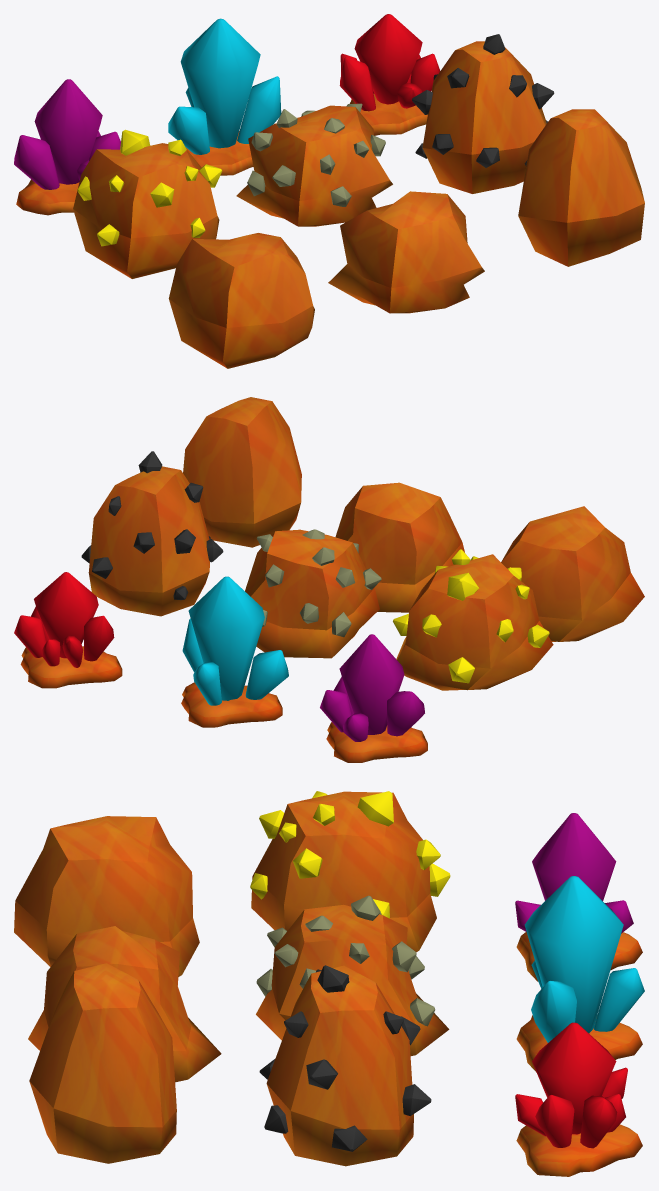
Rendered from Minerios.fbx.
3 views of the same model, one above another, from view 1: azimuth 30°, elevation 25°; view 2: azimuth 150°, elevation 25°; view 3: azimuth 270°, elevation 25° (orthographic). The views are drawn at different scales.
Parts seen in each view (by area): view 1: Minerio Groud.001, Pedra 1.002, Pedra 3.002, Minerio Carbonis.001, Minerio Ferid.001, Pedra 2.002, Cristal Dionis.002, Cristal Ametus.002, Cristal Bariok.002; view 2: Minerio Groud.001, Minerio Carbonis.001, Pedra 3.002, Minerio Ferid.001, Pedra 1.002, Cristal Dionis.002, Pedra 2.002, Cristal Ametus.002, Cristal Bariok.002; view 3: Minerio Carbonis.001, Pedra 3.002, Minerio Groud.001, Pedra 1.002, Cristal Dionis.002, Minerio Ferid.001, Cristal Bariok.002, Pedra 2.002, Cristal Ametus.002.
Boxes of the visible parts, x1,y1,x2,y2 form: Minerio Groud.001: (73, 129, 222, 278); Pedra 1.002: (168, 233, 314, 368); Pedra 3.002: (518, 109, 644, 266); Minerio Carbonis.001: (412, 34, 554, 193); Minerio Ferid.001: (236, 103, 392, 226); Pedra 2.002: (328, 191, 484, 313); Cristal Dionis.002: (168, 18, 281, 175); Cristal Ametus.002: (14, 79, 120, 215); Cristal Bariok.002: (339, 14, 440, 135); Minerio Groud.001: (393, 549, 553, 690); Minerio Carbonis.001: (81, 451, 223, 616); Pedra 3.002: (183, 397, 301, 547); Minerio Ferid.001: (245, 529, 381, 658); Pedra 1.002: (501, 506, 644, 641); Cristal Dionis.002: (181, 576, 288, 727); Pedra 2.002: (335, 482, 464, 612); Cristal Ametus.002: (320, 634, 427, 762); Cristal Bariok.002: (14, 572, 122, 688); Minerio Carbonis.001: (259, 965, 431, 1166); Pedra 3.002: (29, 963, 176, 1163); Minerio Groud.001: (250, 791, 450, 952); Pedra 1.002: (14, 816, 199, 976); Cristal Dionis.002: (516, 876, 644, 1072); Minerio Ferid.001: (256, 895, 449, 1055); Cristal Bariok.002: (515, 1022, 642, 1176); Pedra 2.002: (28, 926, 221, 1082); Cristal Ametus.002: (515, 813, 642, 981).
Bounding box in the file's own units: 737 × 252 × 687.
Materials: 7 (1 with a texture image).
